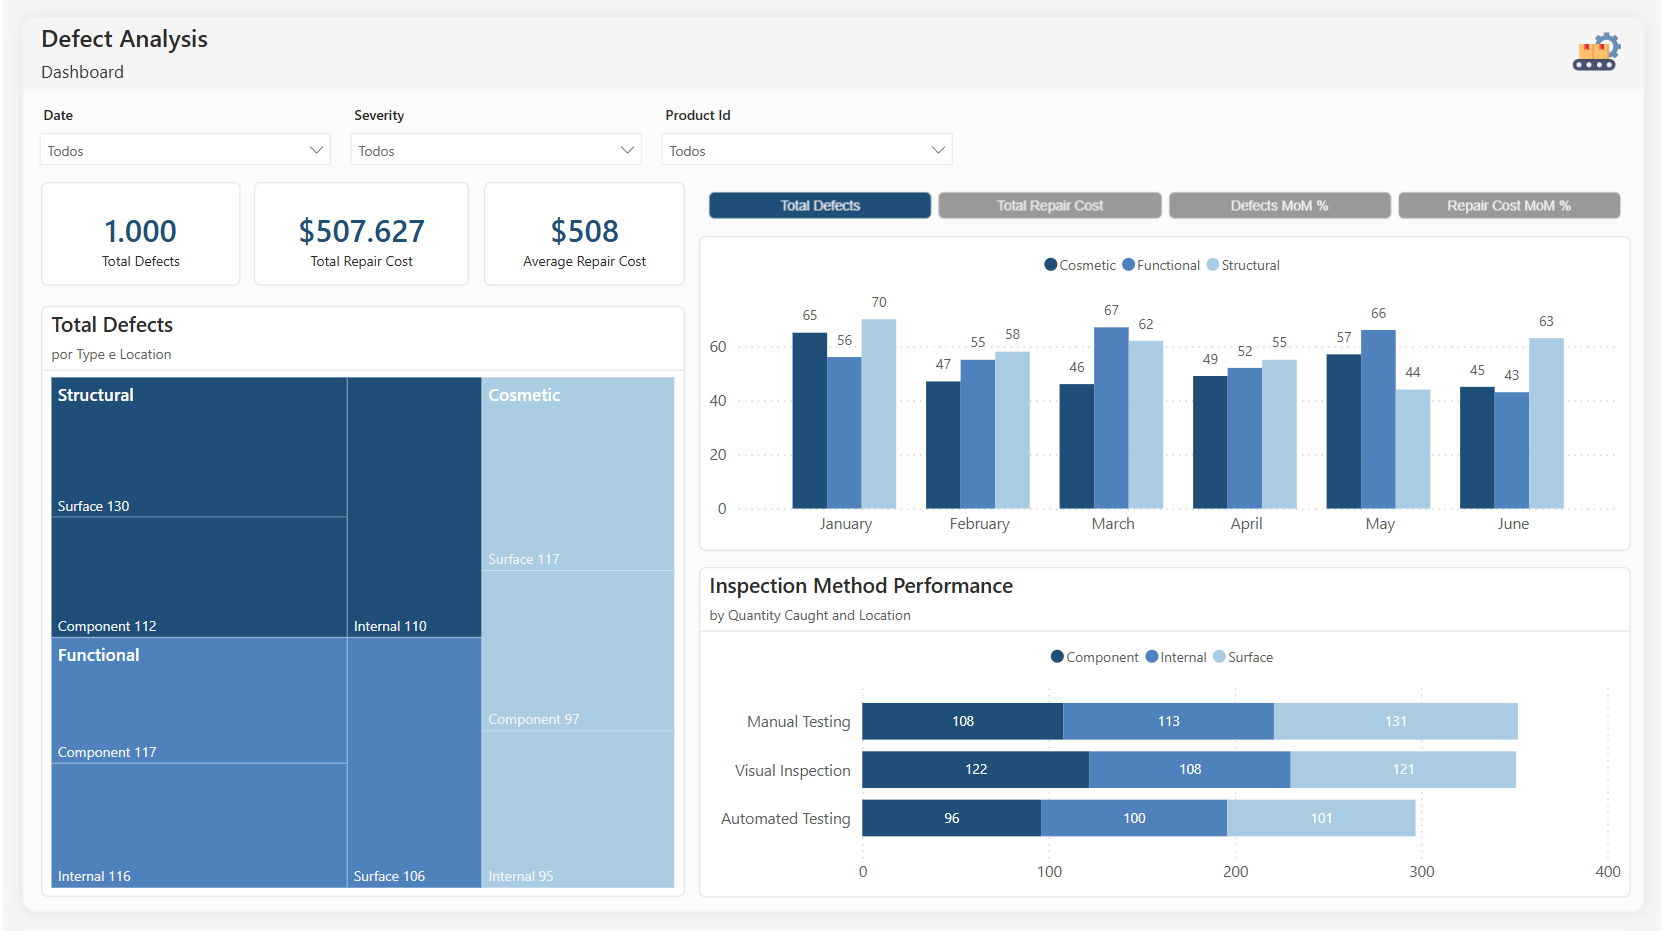

What the dashboard file says about the page in this screenshot:
{"tool":"powerbi","page":{"name":"Dashboard","canvas":[1280,720],"ordinal":0},"visuals":[{"type":"image","box":[1205.5,17,49.5,46.8],"z":0},{"type":"shape","title":"Defect Analysis","box":[29,17,177,46.7],"z":1000},{"type":"slicer","fields":{"Values":["dCalendar.Date.Variation.Date Hierarchy.Year","dCalendar.Date.Variation.Date Hierarchy.Month"]},"box":[23,80,240,60],"z":2000},{"type":"slicer","fields":{"Values":["fDefects.severity"]},"box":[263,80,240,60],"z":3000},{"type":"cardVisual","fields":{"Data":["@Measures.Total Repair Cost"]},"box":[194,141,166,80],"z":5000},{"type":"cardVisual","fields":{"Data":["@Measures.Average Repair Cost"]},"box":[371,141,155,80],"z":6000},{"type":"cardVisual","fields":{"Data":["@Measures.Total Defects"]},"box":[29,141,154,80],"z":7000},{"type":"clusteredColumnChart","title":"Defects Month-Over-Month","fields":{"Category":["dCalendar.Date.Variation.Date Hierarchy.Month"],"Series":["fDefects.defect_type"],"Y":["@Measures.Switch Measures Actual"]},"box":[537,183,719,243],"z":9000},{"type":"treemap","fields":{"Group":["fDefects.defect_type"],"Values":["@Measures.Total Defects"],"Details":["fDefects.defect_location"]},"box":[29.1,237.1,496.8,456.1],"z":10000},{"type":"ChicletSlicer1448559807354","fields":{"Category":["Switch Measures.Measure"]},"box":[537,141,719,42],"z":11000},{"type":"barChart","title":"Inspection Method Performance","fields":{"Category":["fDefects.inspection_method"],"Y":["@Measures.Total Defects"],"Series":["fDefects.defect_location"]},"box":[537,438,719,255],"z":11001},{"type":"slicer","fields":{"Values":["fDefects.product_id"]},"box":[503,80,240,60],"z":11002}]}

Visuals, with their boxes in screenshot pixels (x1, y1, x2, y2), scaled from the page's 1280x720 canvas onto the 1663x931 screenshot:
image: bbox(1566, 22, 1631, 82)
"Defect Analysis" shape: bbox(38, 22, 268, 82)
slicer - dCalendar.Date.Variation.Date Hierarchy.Year x dCalendar.Date.Variation.Date Hierarchy.Month: bbox(30, 103, 342, 181)
slicer - fDefects.severity: bbox(342, 103, 654, 181)
cardVisual - @Measures.Total Repair Cost: bbox(252, 182, 468, 286)
cardVisual - @Measures.Average Repair Cost: bbox(482, 182, 683, 286)
cardVisual - @Measures.Total Defects: bbox(38, 182, 238, 286)
"Defects Month-Over-Month" clusteredColumnChart: bbox(698, 237, 1632, 551)
treemap - fDefects.defect_type x @Measures.Total Defects: bbox(38, 307, 683, 896)
ChicletSlicer1448559807354 - Switch Measures.Measure: bbox(698, 182, 1632, 237)
"Inspection Method Performance" barChart: bbox(698, 566, 1632, 896)
slicer - fDefects.product_id: bbox(654, 103, 965, 181)
